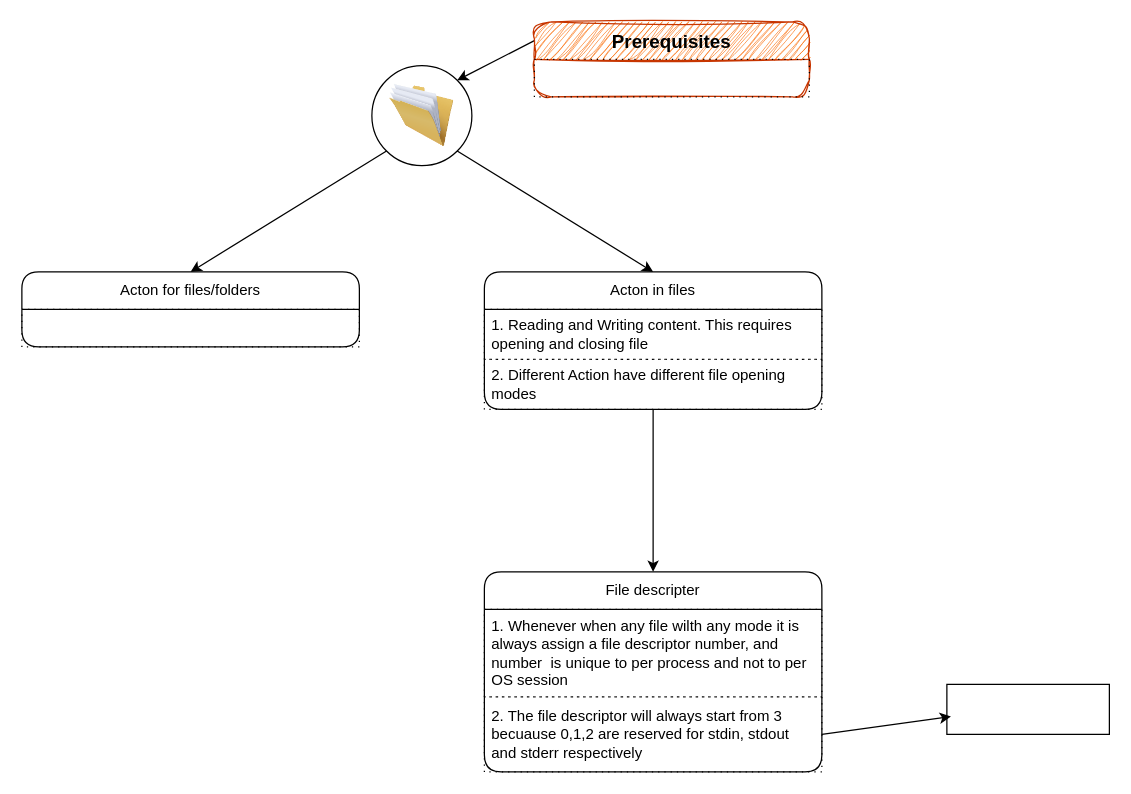
This 1131x794 diagram has some shape labels left out. The shapes that lost their labels are listed below. From the top down, each one's centre as x and y in pixels, then its label:
(671,77): Should about path systems
(190,327): 1. create, delete/remove, rename, move
(1027,708): every process has input, output and err
